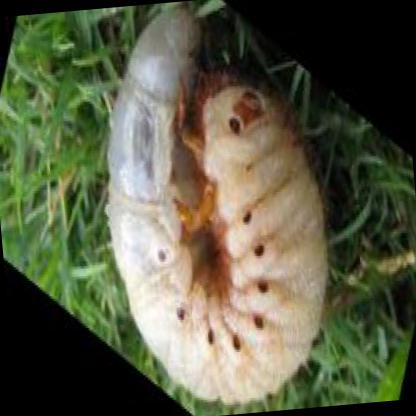root grubs: (106, 5, 328, 406)
